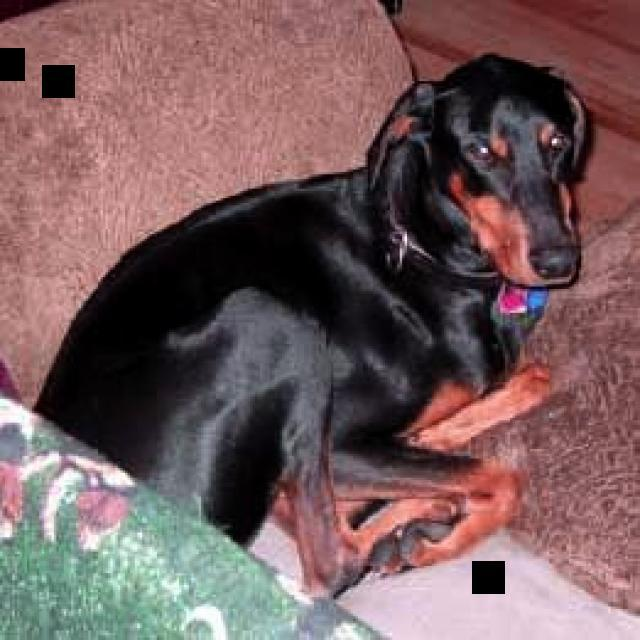adult_dog: (27, 40, 598, 611)
